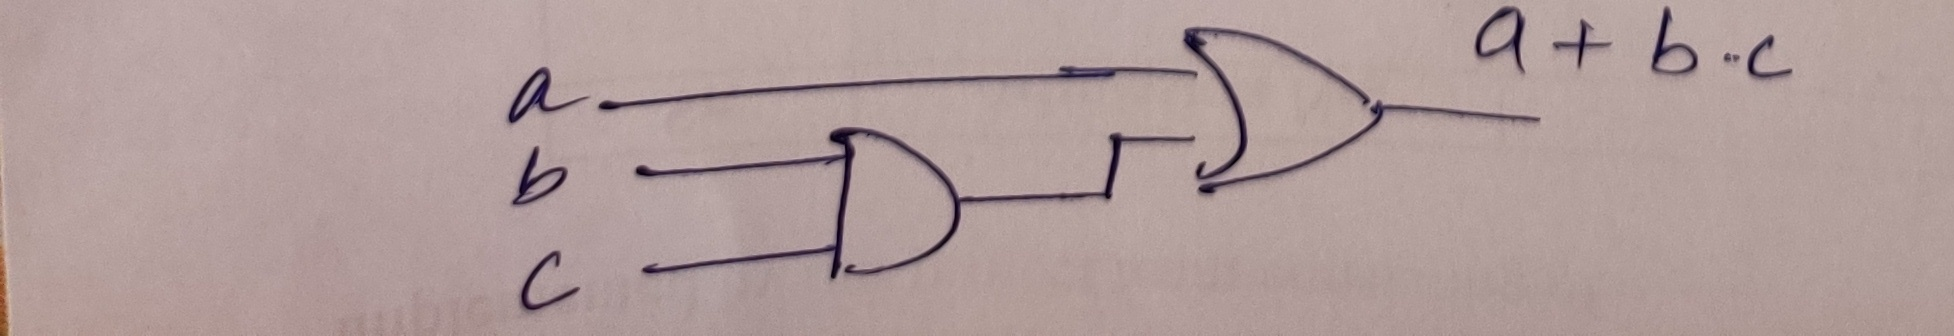and: (803, 100, 999, 312)
or: (1138, 7, 1426, 224)
